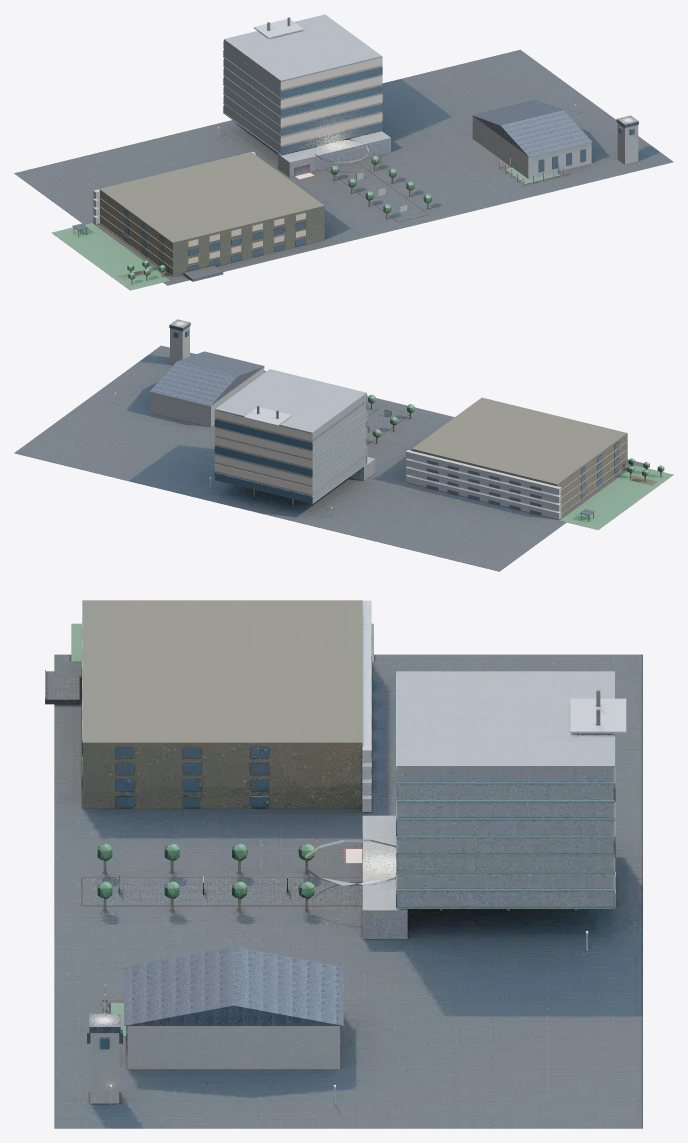
Rendered from care_cluster_low.glb.
3 views of the same model, one above another, from view 1: azimuth 30°, elevation 25°; view 2: azimuth 150°, elevation 25°; view 3: azimuth 270°, elevation 25° (orthographic). The views are drawn at different scales.
Parts seen in each view (by area): view 1: site_ground, props_care_home, props_hospital, props_monastery, props_street; view 2: site_ground, props_care_home, props_hospital, props_monastery, props_street; view 3: site_ground, props_care_home, props_hospital, props_monastery, props_street.
Part boxes in pixels (x1,y1,x2,y2): site_ground: [14, 50, 673, 285]; props_care_home: [51, 151, 324, 290]; props_hospital: [223, 14, 390, 179]; props_monastery: [472, 100, 638, 185]; props_street: [325, 156, 431, 222]; site_ground: [14, 345, 643, 571]; props_care_home: [405, 397, 673, 529]; props_hospital: [214, 369, 375, 503]; props_monastery: [150, 319, 264, 427]; props_street: [249, 394, 414, 510]; site_ground: [54, 654, 642, 1128]; props_care_home: [45, 600, 373, 811]; props_hospital: [305, 671, 626, 938]; props_monastery: [87, 946, 343, 1103]; props_street: [82, 843, 577, 910].
Bounding box in the file's own units: 213 × 37.75 × 107.
Materials: 6 (6 with a texture image).
